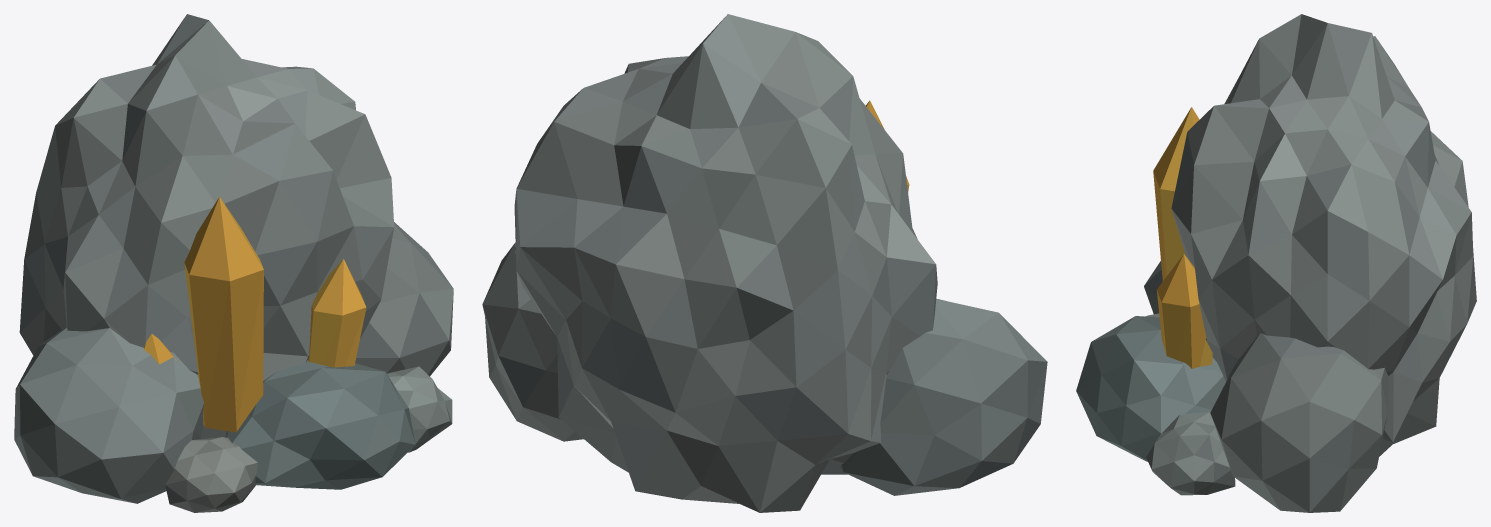
File: crystal_rock_amber.glb
3 renders of one model, left to right at view 1: azimuth 30°, elevation 25°; view 2: azimuth 150°, elevation 25°; view 3: azimuth 270°, elevation 25°, orthographic. The views are drawn at different scales.
Visible parts, largest first — view 1: Main_rock, Rock_left, Rock_front, Crystal_main, Rock_right, Pebble_left, Crystal_side, Pebble_right, Crystal_small; view 2: Main_rock, Rock_left, Rock_right; view 3: Main_rock, Rock_right, Rock_front, Pebble_right, Crystal_side, Crystal_main, Rock_left.
Part boxes in pixels (x1,y1,x2,y2): Main_rock: [19, 14, 394, 439]; Rock_left: [14, 327, 203, 503]; Rock_front: [225, 360, 415, 489]; Crystal_main: [184, 197, 263, 432]; Rock_right: [355, 222, 453, 376]; Pebble_left: [165, 437, 257, 512]; Crystal_side: [308, 259, 366, 367]; Pebble_right: [387, 366, 452, 452]; Crystal_small: [144, 334, 176, 364]; Main_rock: [514, 14, 937, 512]; Rock_left: [840, 298, 1047, 495]; Rock_right: [482, 242, 583, 441]; Main_rock: [1171, 14, 1476, 456]; Rock_right: [1210, 333, 1388, 512]; Rock_front: [1076, 316, 1225, 461]; Pebble_right: [1146, 412, 1235, 495]; Crystal_side: [1156, 254, 1212, 368]; Crystal_main: [1153, 107, 1199, 281]; Rock_left: [1144, 261, 1162, 314].
Bounding box in the file's own units: 2.03 × 1.72 × 1.56.
